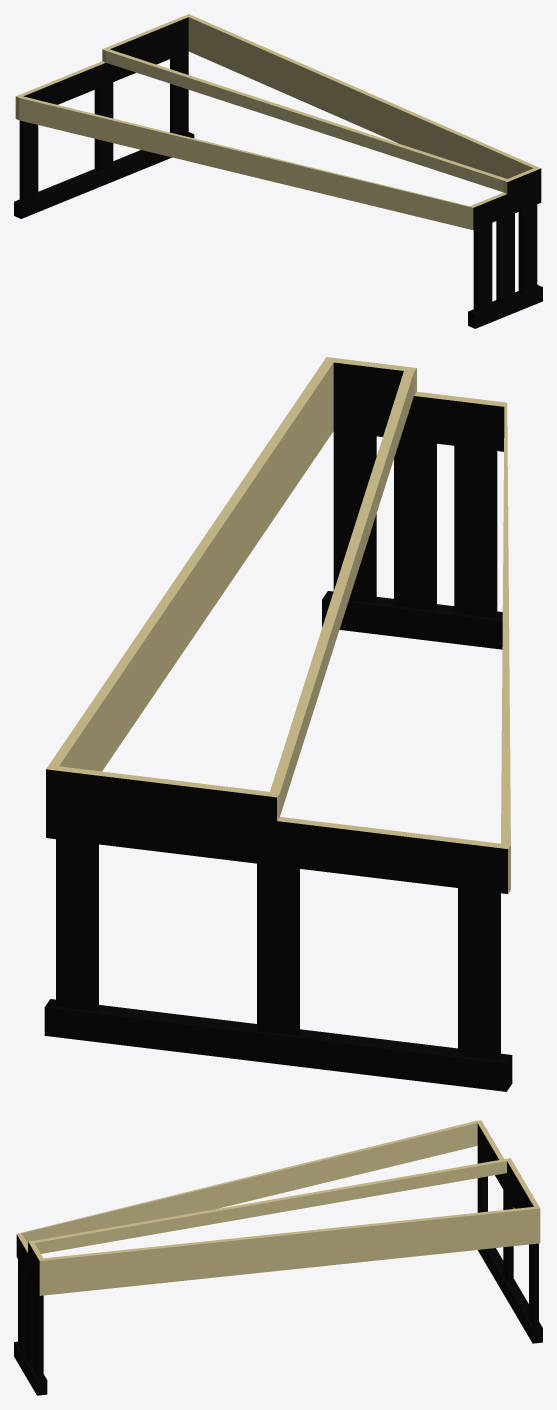
File: Marimba.glb
3 renders of one model, top to bottom at view 1: azimuth 30°, elevation 25°; view 2: azimuth 150°, elevation 25°; view 3: azimuth 270°, elevation 25°, orthographic. The views are drawn at different scales.
Size of the model in its own units: 1.74 by 0.7089 by 2.53.
